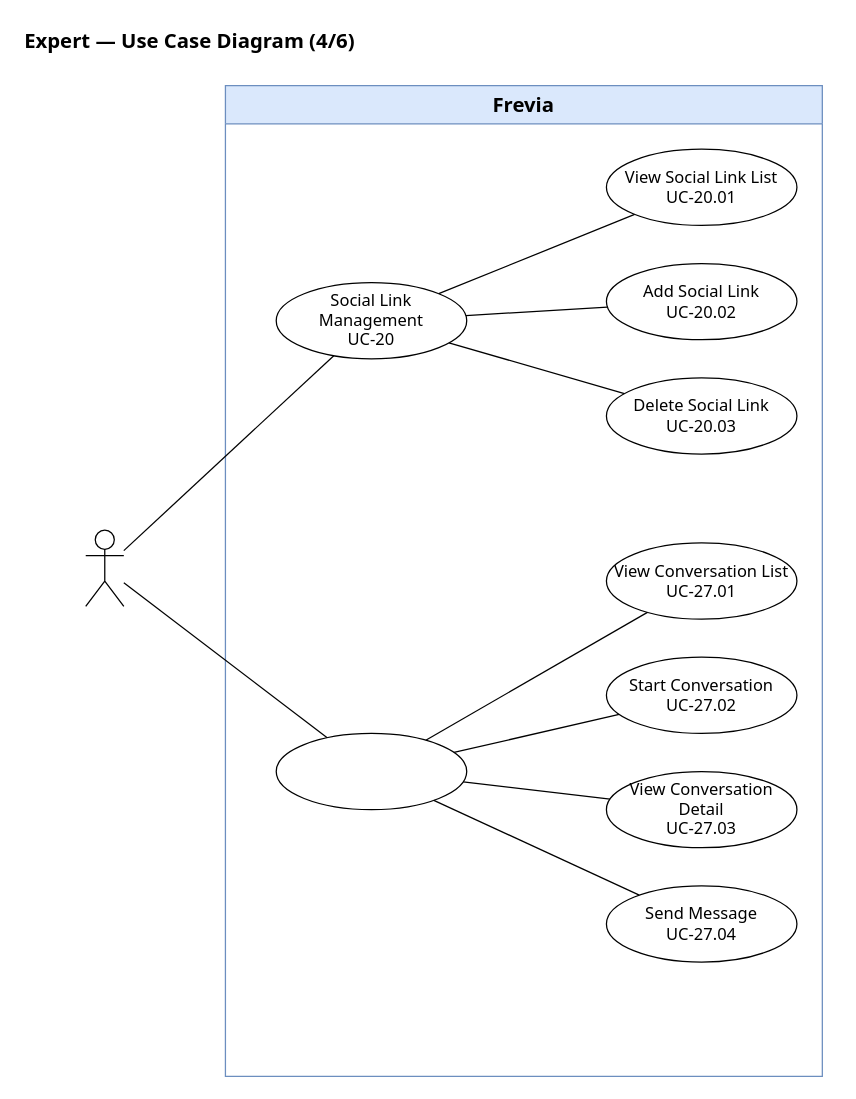
The diagram is 856 pixels wide and 1099 high, and some of its shapes have lost their labels. The centre of each missing label's shape, as x and y in pixels:
"Conversation Management UC-27" belongs at pixel 371 771.
"Expert" belongs at pixel 104 567.
